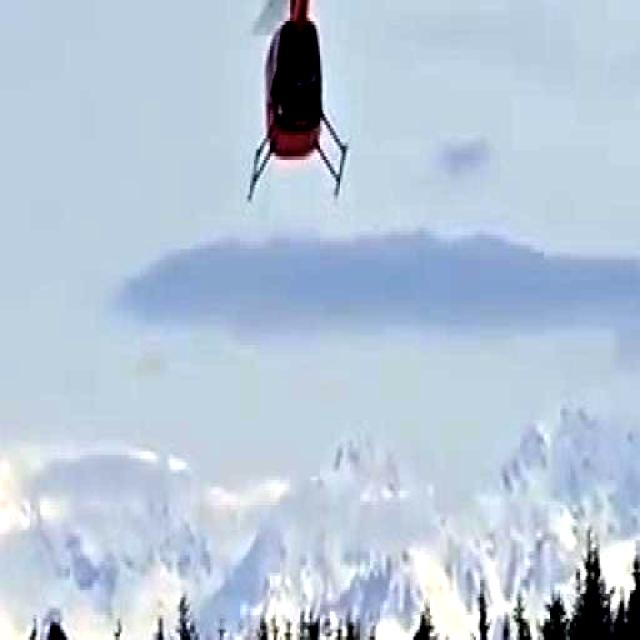drone: (224, 0, 366, 204)
